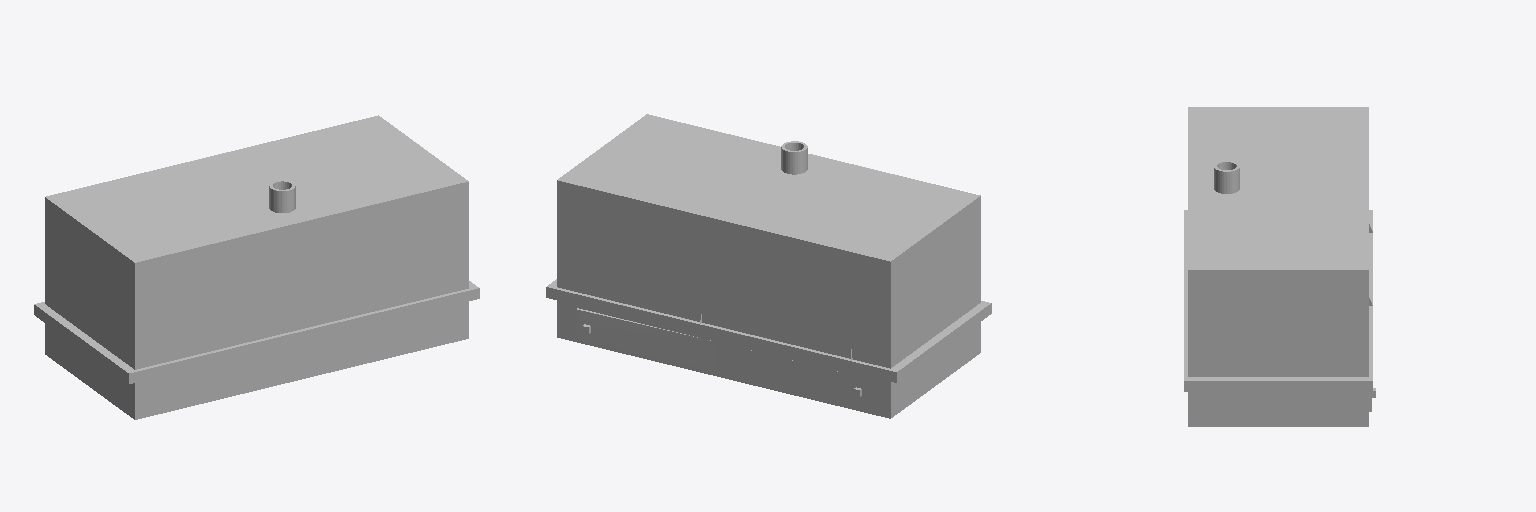
File: furnace.obj
3 views of the same model, side by side, from view 1: azimuth 30°, elevation 25°; view 2: azimuth 150°, elevation 25°; view 3: azimuth 270°, elevation 25° (orthographic).
Visible parts, largest first — view 1: Cube; view 2: Cube; view 3: Cube.
Part boxes in pixels (left/top/right/bottom): Cube: left=34, top=115, right=479, bottom=419; Cube: left=546, top=114, right=991, bottom=418; Cube: left=1184, top=107, right=1375, bottom=426.
Size of the model in its own units: 8.4 by 4.11 by 4.